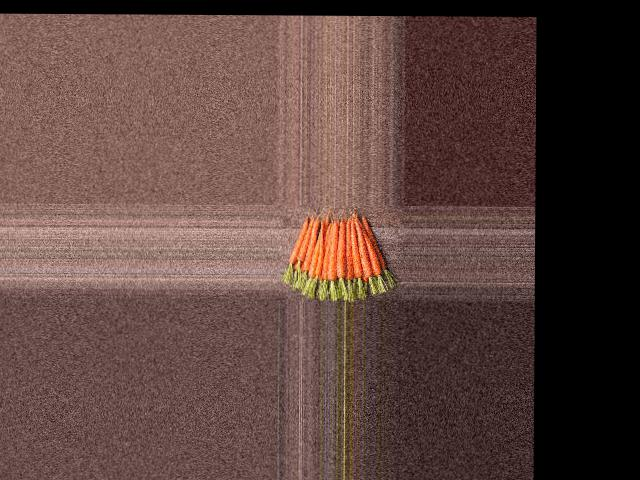carrot: (289, 217, 298, 266)
